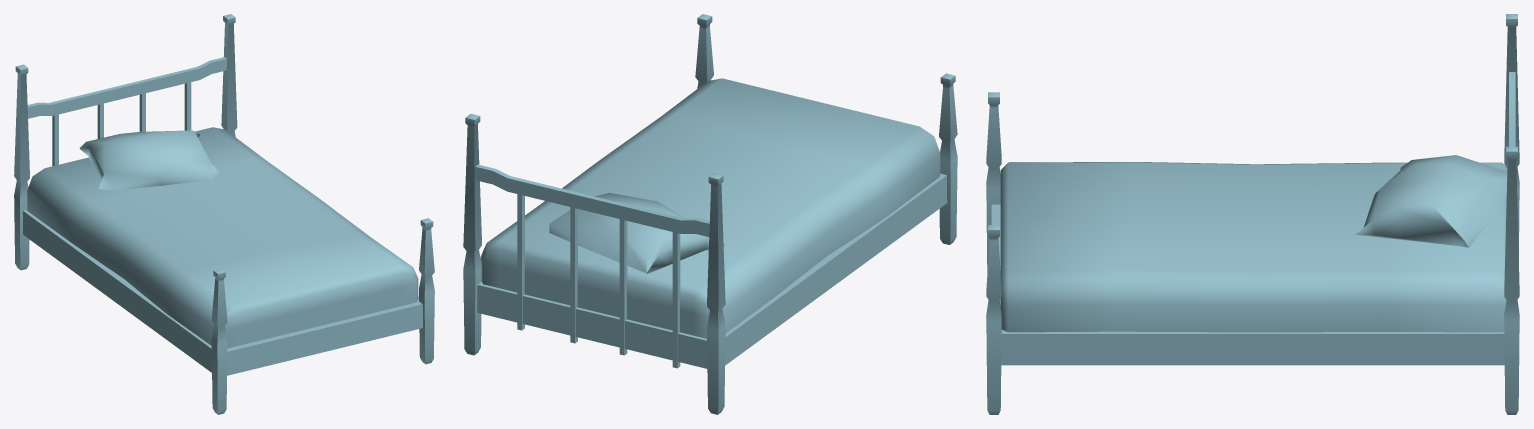
The model's file is lo_Prop_Bed_A.fbx.
3 views of the same model, side by side, from view 1: azimuth 30°, elevation 25°; view 2: azimuth 150°, elevation 25°; view 3: azimuth 270°, elevation 25° (orthographic). The views are drawn at different scales.
Parts seen in each view (by area): view 1: lo_Prop_Bed_A_LOD0; view 2: lo_Prop_Bed_A_LOD0; view 3: lo_Prop_Bed_A_LOD0.
Part boxes in pixels (box(x1,y1,x2,y2)): lo_Prop_Bed_A_LOD0: box(14, 14, 434, 414); lo_Prop_Bed_A_LOD0: box(463, 14, 957, 414); lo_Prop_Bed_A_LOD0: box(986, 14, 1519, 414).
Size of what is drawn, in the model's own units: 2.31 by 2.06 by 3.74.
